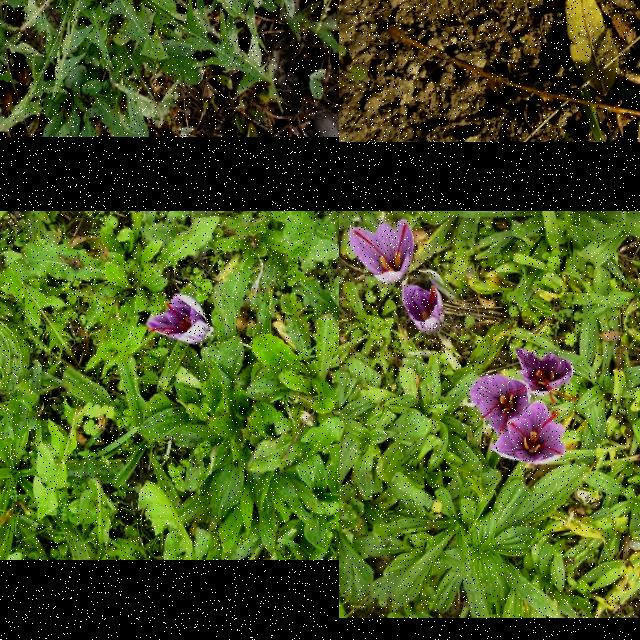flower: (492, 401, 566, 463), (350, 220, 414, 282), (470, 374, 530, 436), (515, 347, 579, 405), (145, 294, 211, 346), (402, 284, 444, 332)
